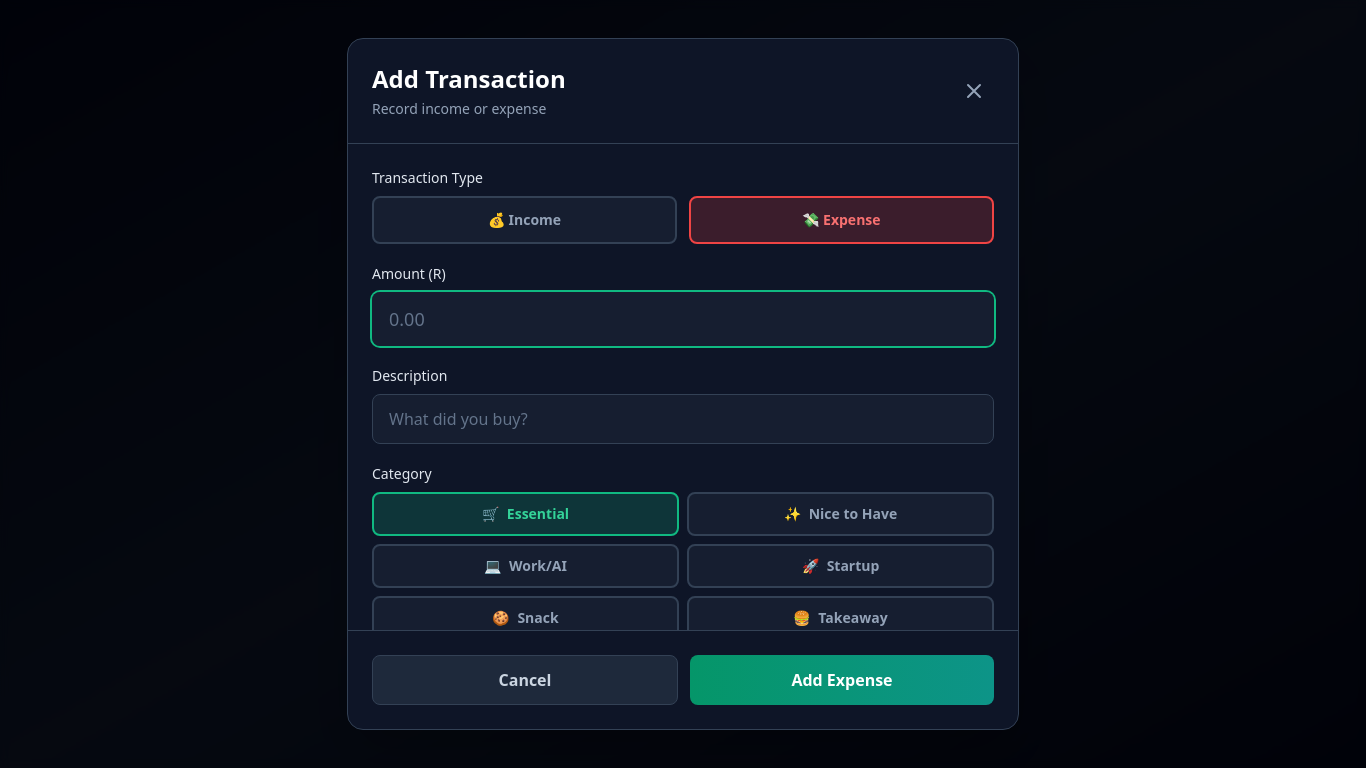
Test: QuickAdd Component › Transaction Type Toggle › should switch to income type
Click the button "💰 Income": click(524, 220) [372,196,677,244]
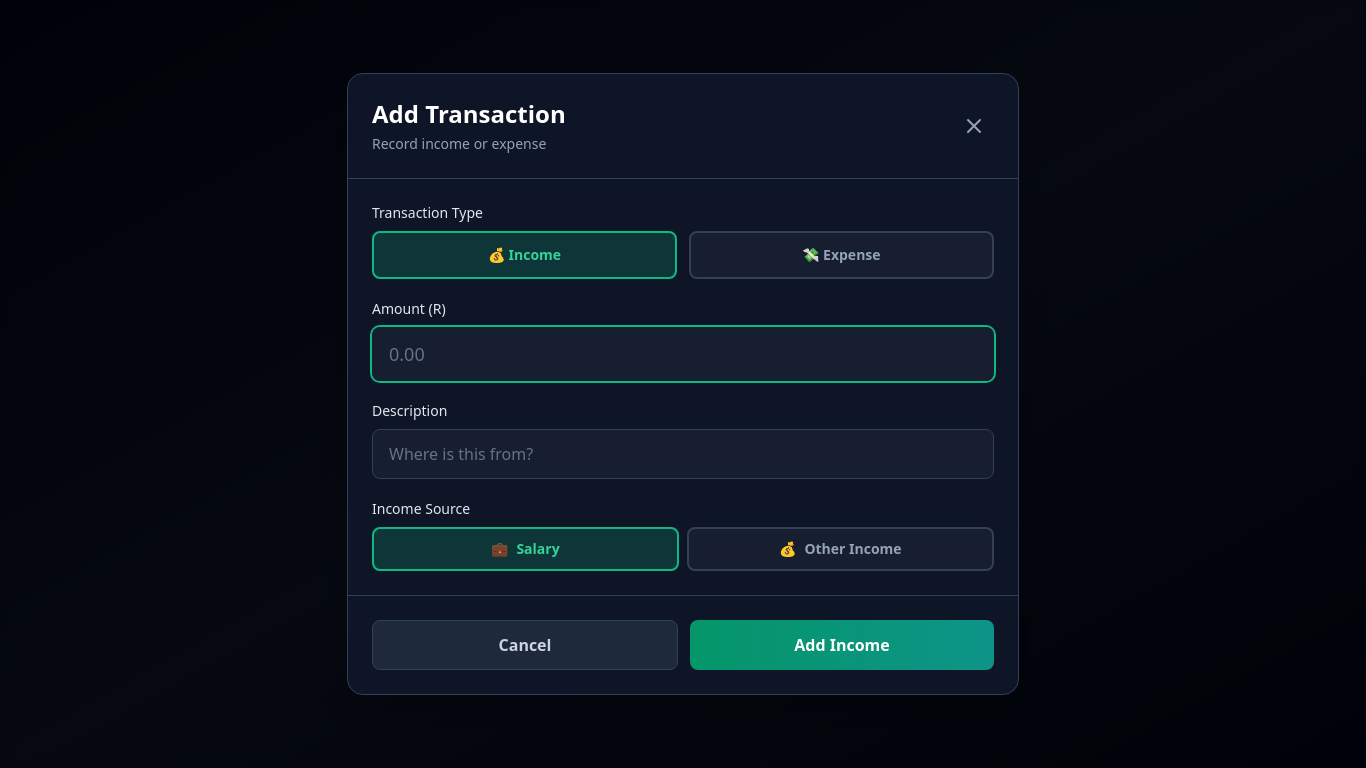
Now the button "Add Income" is shown, box [690,620,994,670]
